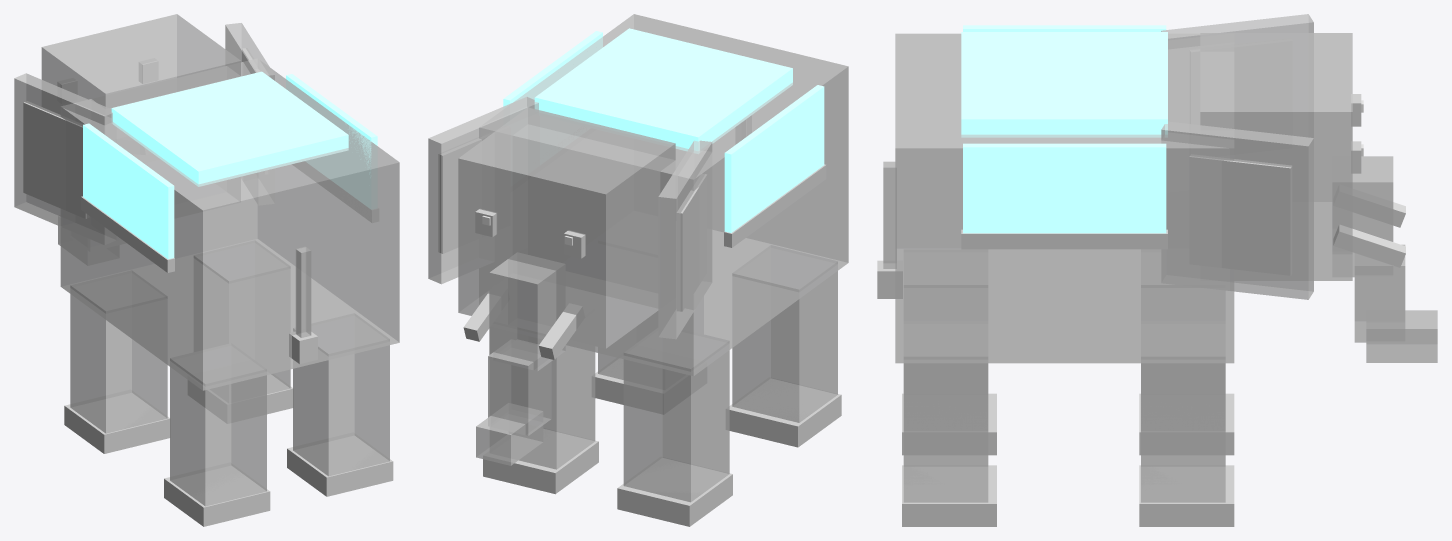
File: DiamondElephant.fbx
3 views of the same model, side by side, from view 1: azimuth 30°, elevation 25°; view 2: azimuth 150°, elevation 25°; view 3: azimuth 270°, elevation 25° (orthographic). The views are drawn at different scales.
Parts seen in each view (by area): view 1: Diamond Elephant_body_0, Diamond Elephant_body_9, Diamond Elephant_head_14, Diamond Elephant_legBL_5, Diamond Elephant_legBR_7, Diamond Elephant_legFL_1, Diamond Elephant_body_11, Diamond Elephant_earL_16, Diamond Elephant_earL_18, Diamond Elephant_legBL_6, Diamond Elephant_legBR_8, Diamond Elephant_legFL_2 (+8 smaller); view 2: Diamond Elephant_body_0, Diamond Elephant_head_14, Diamond Elephant_body_9, Diamond Elephant_legFL_1, Diamond Elephant_legBL_5, Diamond Elephant_body_11, Diamond Elephant_head_19, Diamond Elephant_earR_15, Diamond Elephant_earL_16, Diamond Elephant_legFL_2, Diamond Elephant_legBL_6, Diamond Elephant_legFR_3 (+13 smaller); view 3: Diamond Elephant_body_0, Diamond Elephant_body_9, Diamond Elephant_head_14, Diamond Elephant_body_10, Diamond Elephant_legBR_7, Diamond Elephant_legFR_3, Diamond Elephant_earR_15, Diamond Elephant_earR_17, Diamond Elephant_legFR_4, Diamond Elephant_legBR_8, Diamond Elephant_head_19, Diamond Elephant_earL_16 (+13 smaller).
Part boxes in pixels (bbox=[...]): Diamond Elephant_body_0: bbox=[60, 58, 399, 390]; Diamond Elephant_body_9: bbox=[111, 71, 348, 186]; Diamond Elephant_head_14: bbox=[41, 14, 240, 218]; Diamond Elephant_legBL_5: bbox=[170, 343, 266, 506]; Diamond Elephant_legBR_7: bbox=[293, 313, 389, 476]; Diamond Elephant_legFL_1: bbox=[70, 270, 167, 433]; Diamond Elephant_body_11: bbox=[83, 123, 174, 259]; Diamond Elephant_earL_16: bbox=[14, 73, 116, 244]; Diamond Elephant_earL_18: bbox=[23, 101, 88, 218]; Diamond Elephant_legBL_6: bbox=[164, 463, 270, 526]; Diamond Elephant_legBR_8: bbox=[287, 433, 393, 496]; Diamond Elephant_legFL_2: bbox=[64, 390, 169, 453]; Diamond Elephant_body_0: bbox=[479, 14, 848, 376]; Diamond Elephant_head_14: bbox=[458, 107, 675, 348]; Diamond Elephant_body_9: bbox=[534, 28, 792, 153]; Diamond Elephant_legFL_1: bbox=[623, 328, 729, 502]; Diamond Elephant_legBL_5: bbox=[732, 245, 837, 422]; Diamond Elephant_body_11: bbox=[724, 85, 824, 232]; Diamond Elephant_head_19: bbox=[489, 252, 565, 371]; Diamond Elephant_earR_15: bbox=[428, 97, 538, 284]; Diamond Elephant_earL_16: bbox=[658, 140, 712, 339]; Diamond Elephant_legFL_2: bbox=[617, 457, 732, 526]; Diamond Elephant_legBL_6: bbox=[726, 378, 841, 447]; Diamond Elephant_legFR_3: bbox=[519, 345, 595, 469]; Diamond Elephant_body_0: bbox=[895, 33, 1234, 363]; Diamond Elephant_body_9: bbox=[961, 32, 1167, 137]; Diamond Elephant_head_14: bbox=[1200, 33, 1352, 280]; Diamond Elephant_body_10: bbox=[963, 143, 1166, 233]; Diamond Elephant_legBR_7: bbox=[903, 321, 988, 502]; Diamond Elephant_legFR_3: bbox=[1141, 321, 1225, 502]; Diamond Elephant_earR_15: bbox=[1161, 121, 1313, 299]; Diamond Elephant_earR_17: bbox=[1189, 155, 1292, 275]; Diamond Elephant_legFR_4: bbox=[1139, 465, 1234, 526]; Diamond Elephant_legBR_8: bbox=[902, 465, 996, 526]; Diamond Elephant_head_19: bbox=[1332, 156, 1393, 277]; Diamond Elephant_earL_16: bbox=[1161, 14, 1313, 124].
Bounding box in the file's own units: 185 × 260 × 331.
